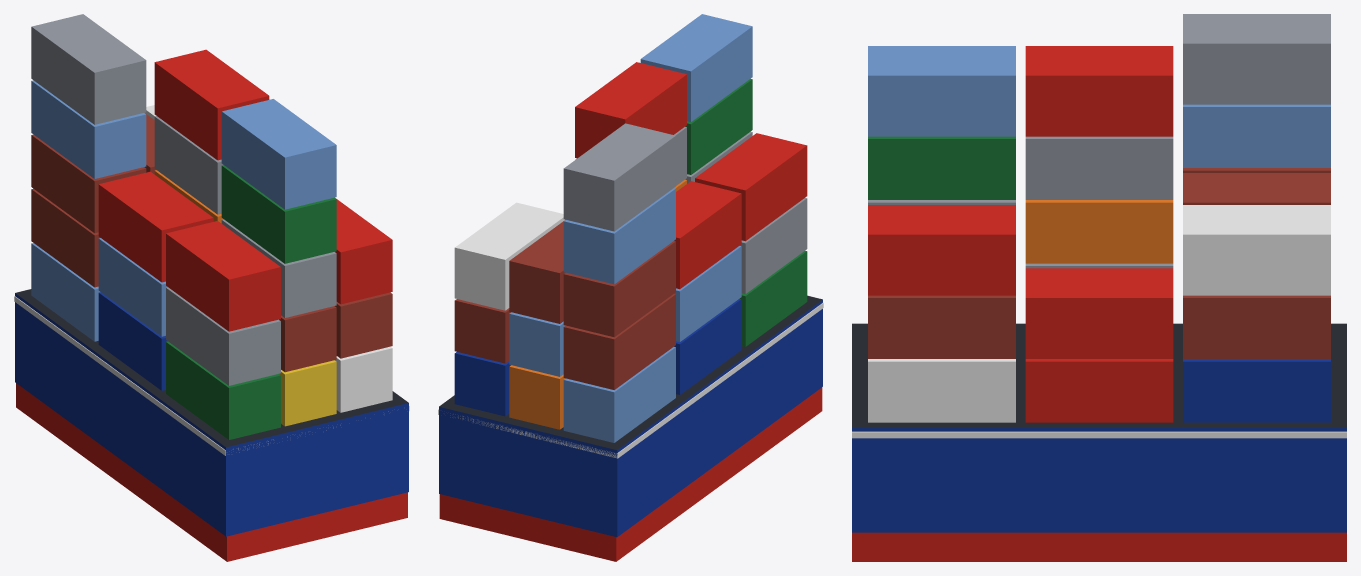
File: buque_carga_1.obj
3 renders of one model, left to right at view 1: azimuth 30°, elevation 25°; view 2: azimuth 150°, elevation 25°; view 3: azimuth 270°, elevation 25°, orthographic. The views are drawn at different scales.
Visible parts, largest first — view 1: buque_carga_1; view 2: buque_carga_1; view 3: buque_carga_1.
Boxes of the visible parts, x1,y1,x2,y2 form: buque_carga_1: (14, 14, 409, 561); buque_carga_1: (438, 14, 823, 561); buque_carga_1: (852, 14, 1346, 561).
Bounding box in the file's own units: 9.06 × 18.05 × 18.
